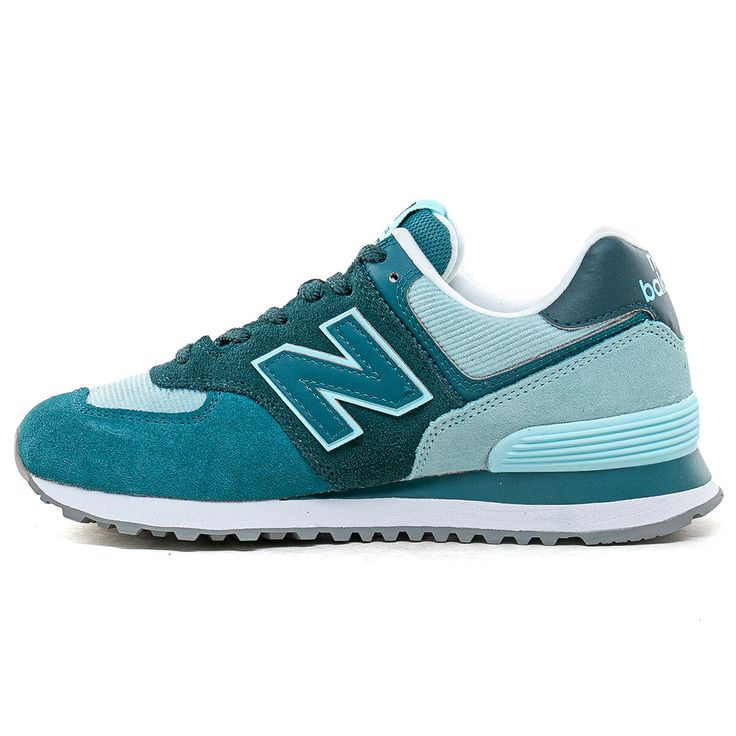gamuza: (18, 253, 706, 504)
